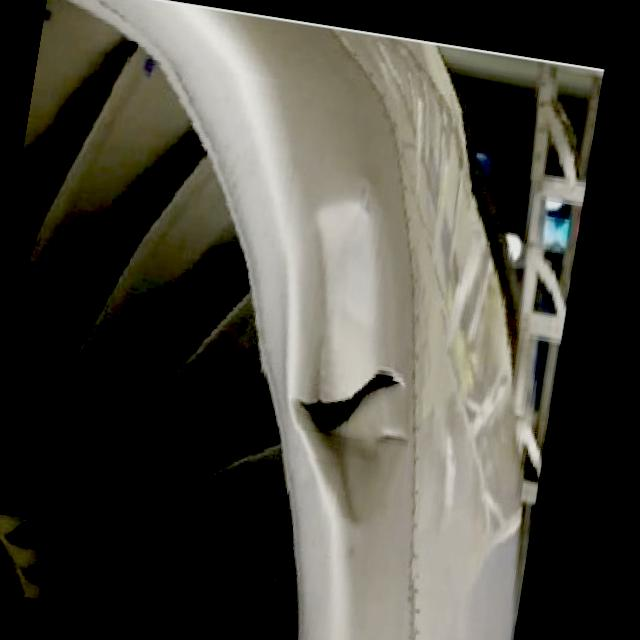crack: (278, 354, 420, 449)
